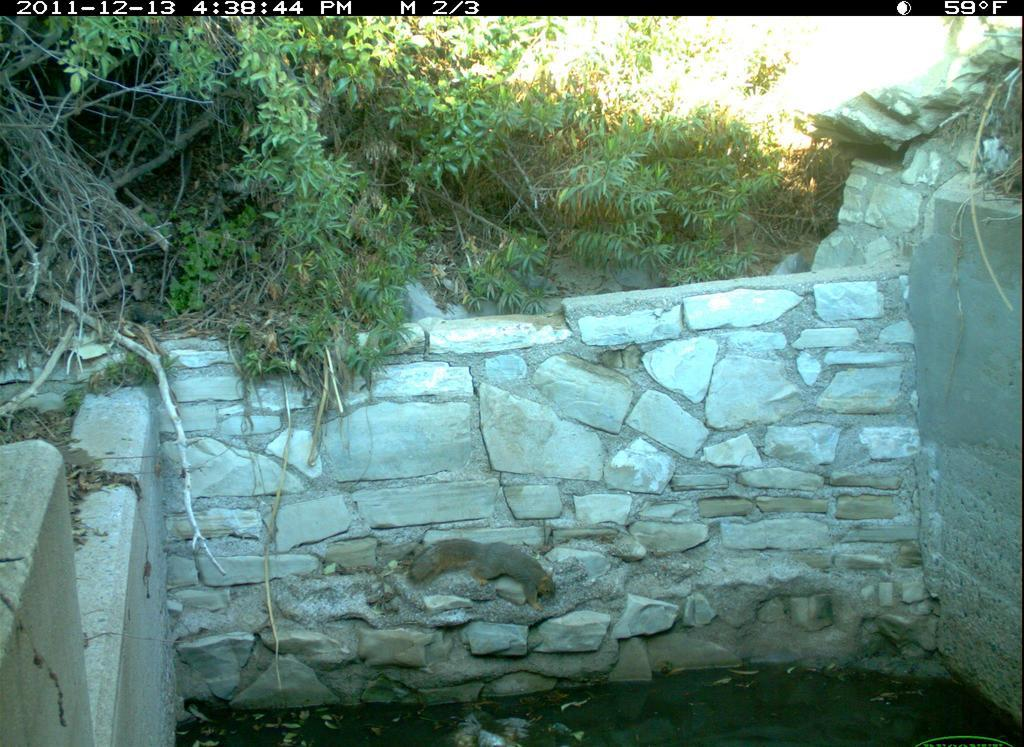squirrel: (386, 520, 565, 620)
